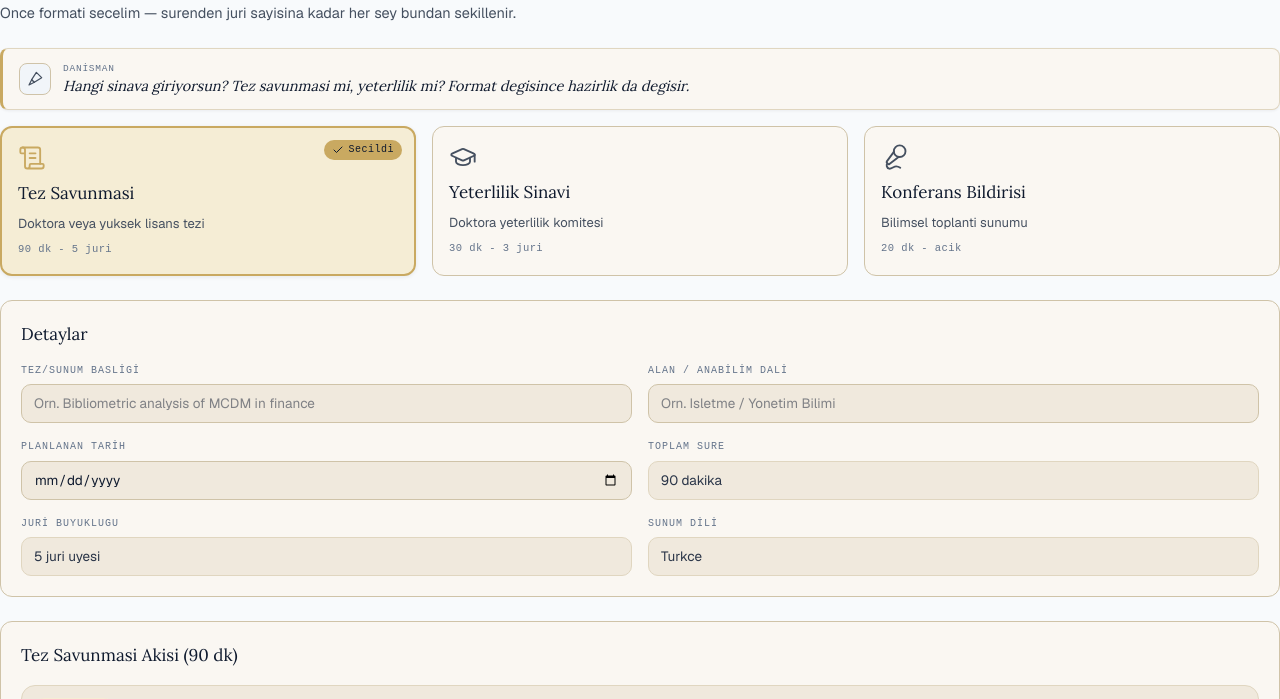
Test: DefenseFormatPage — endpoint binding › title+field doldurulunca saveSession POST atar ve session bilgisi gosterilir
In the field with placeholder "Orn. Bibliometric analysis of MCDM in finance": (326, 404) [21,384,632,423], type "Tez X"
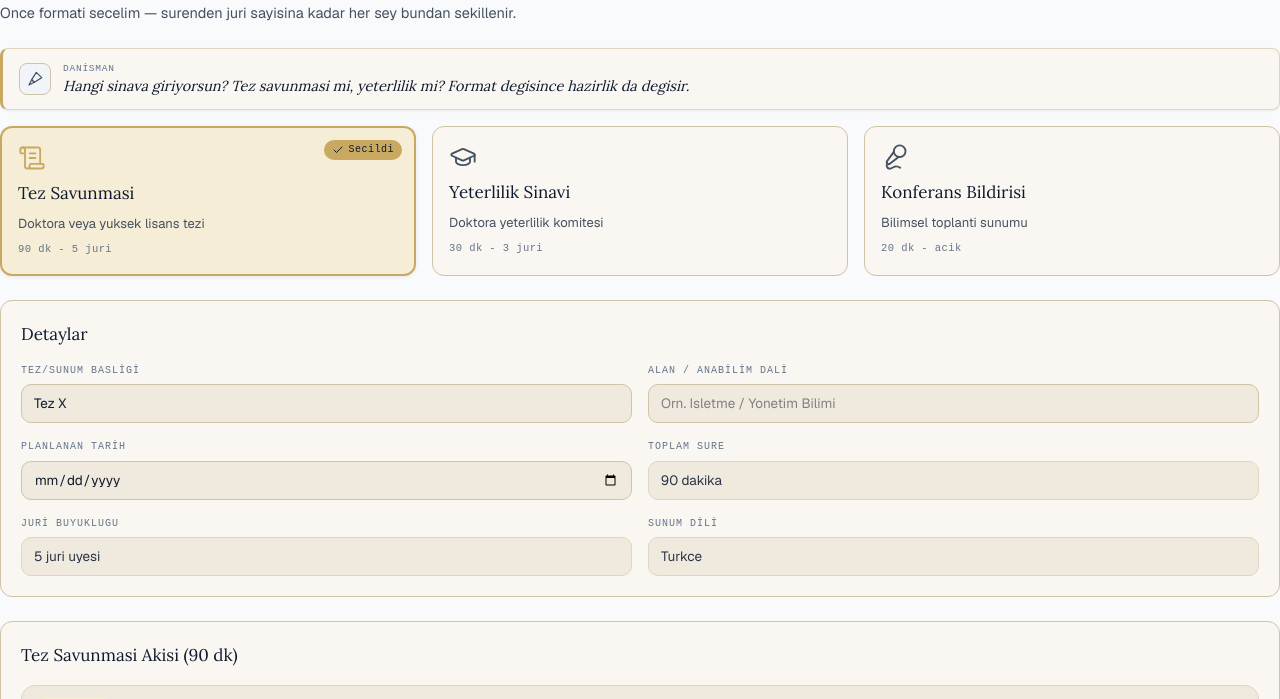
In the field with placeholder "Orn. Isletme / Yonetim Bilimi": (954, 404) [648,384,1259,423], type "Yöneylem"
(page scrolled)
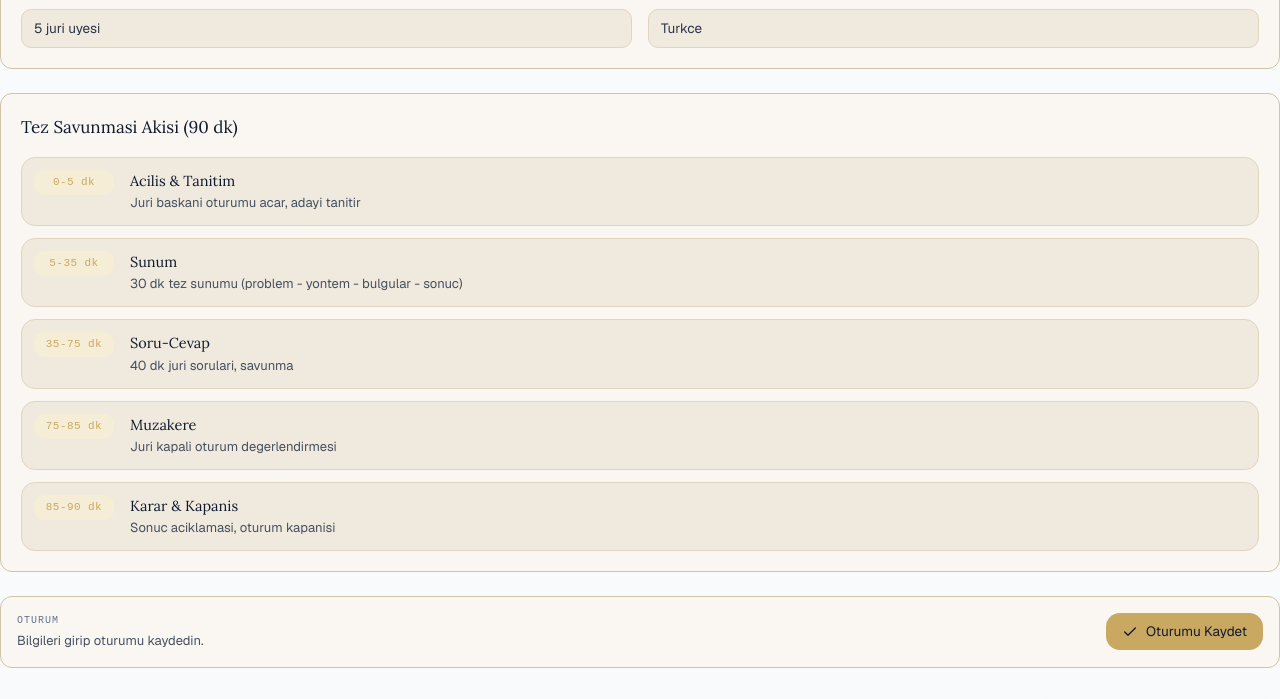
Click the button "Oturumu Kaydet": (1185, 632) [1106,614,1263,650]
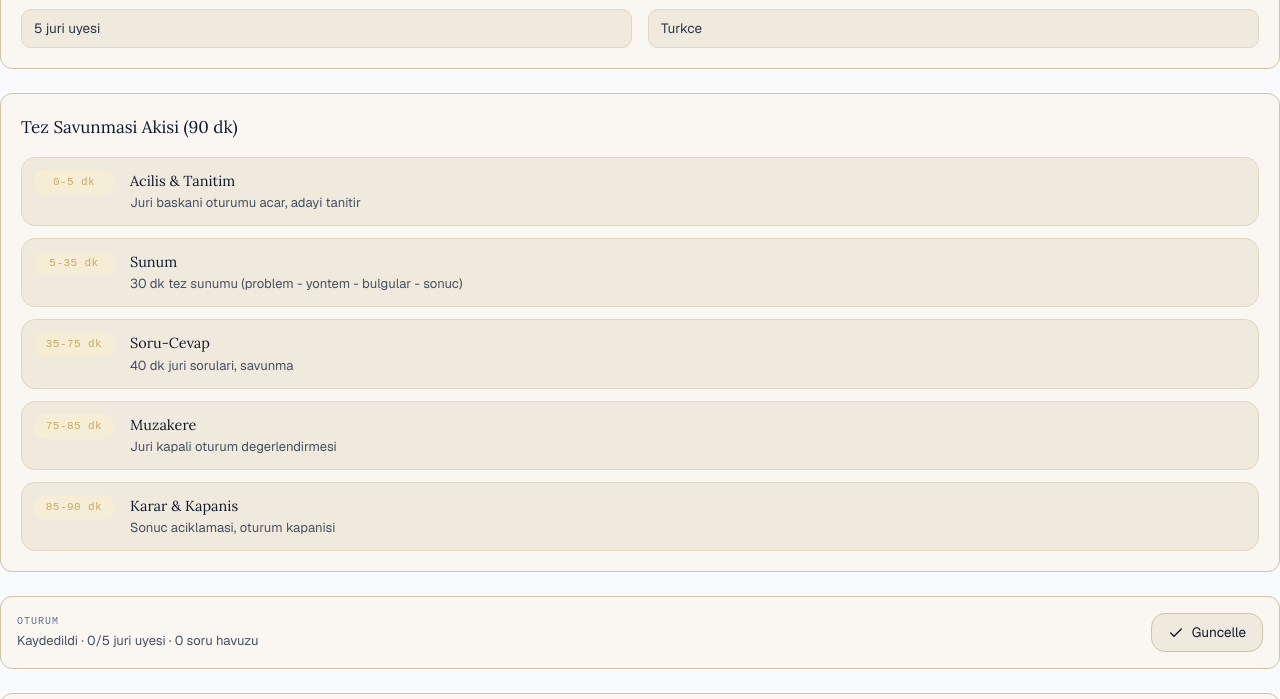
Expected: the text "Kaydedildi · 0/5 juri uyesi · 0 soru havuzu" is shown, [17,631,258,651]
